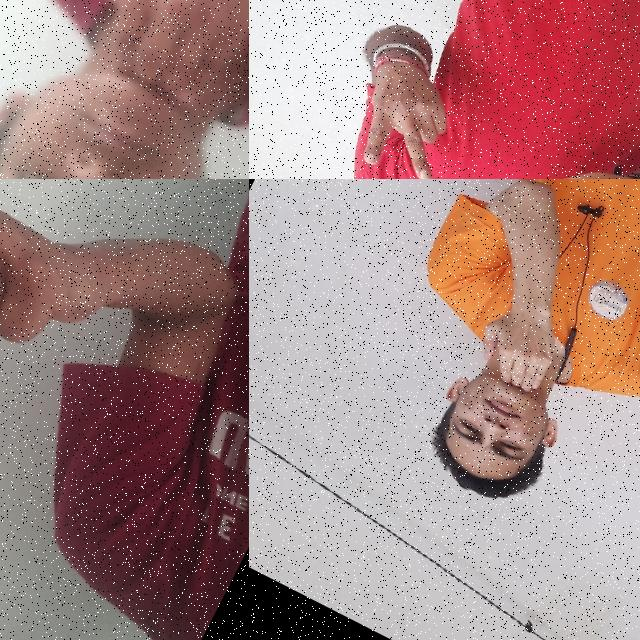Chin Flick: (396, 279, 622, 529), (0, 0, 249, 179)
Dulya: (0, 179, 132, 382)
Reversed Victory: (326, 32, 488, 179), (483, 122, 640, 179)
